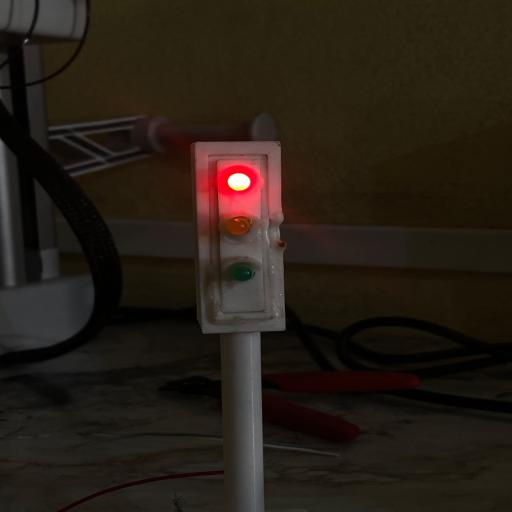Red Light: (218, 164, 262, 195), (228, 173, 250, 191)
